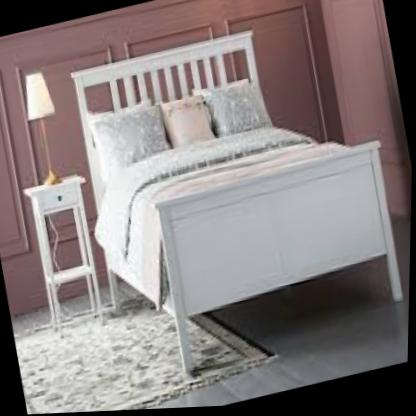Bed: (60, 0, 416, 387)
Nightstand: (20, 170, 116, 342)
